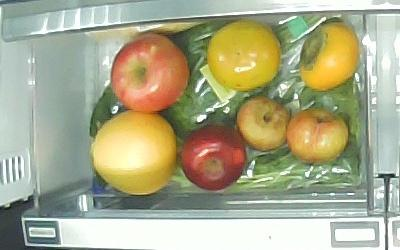apple: (111, 33, 191, 113), (182, 124, 246, 192)
grapefruit: (91, 111, 178, 194)
persimmon: (208, 19, 282, 91), (300, 21, 359, 91)
prune: (287, 108, 349, 163), (237, 96, 292, 151)
